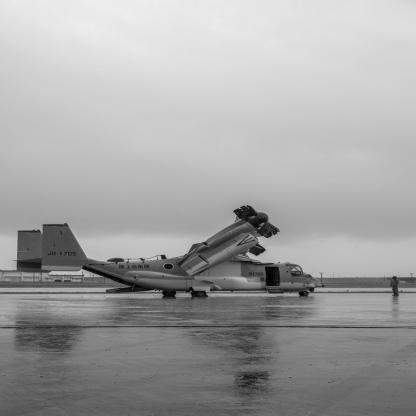V22: (13, 206, 328, 298)
